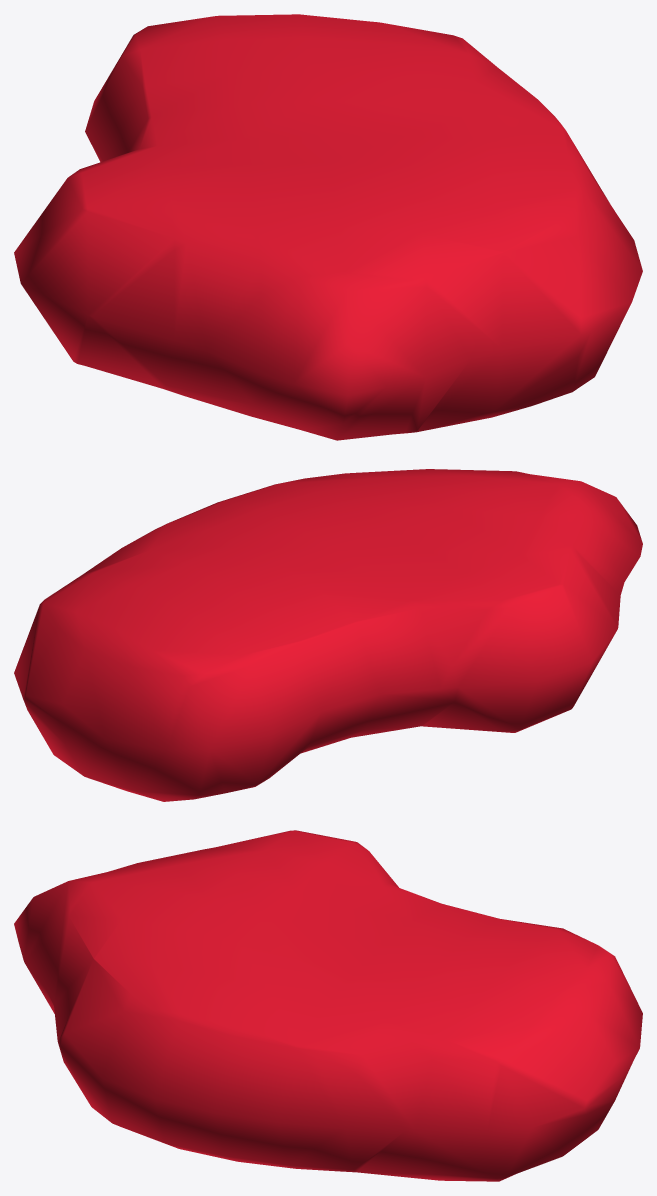
File: PaletteBlob1.fbx
The picture shows the model from 3 angles, top to bottom: view 1: azimuth 30°, elevation 25°; view 2: azimuth 150°, elevation 25°; view 3: azimuth 270°, elevation 25°; orthographic projection. The views are drawn at different scales.
Parts seen in each view (by area): view 1: Cube.001; view 2: Cube.001; view 3: Cube.001.
Boxes of the visible parts, left/top/right/bottom form: Cube.001: left=14, top=14, right=642, bottom=440; Cube.001: left=14, top=469, right=642, bottom=801; Cube.001: left=14, top=830, right=642, bottom=1181.
Size of the model in its own units: 57.25 by 21.74 by 67.87.
